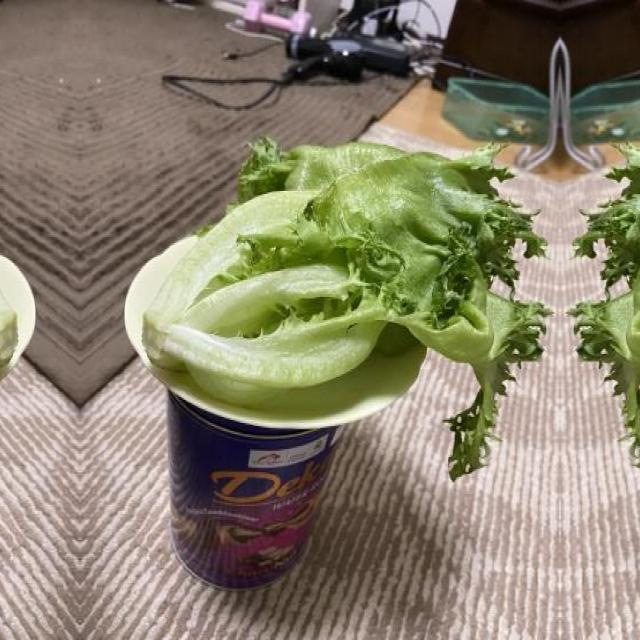healthy: (146, 131, 548, 485), (571, 131, 640, 485), (0, 131, 14, 485)
